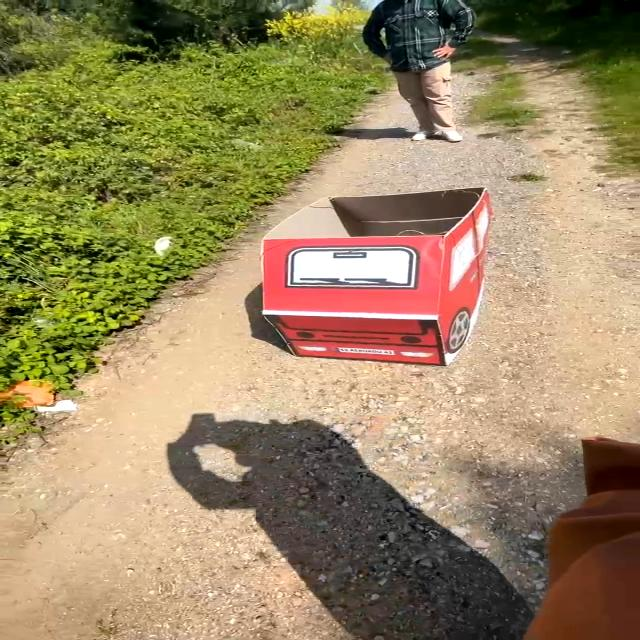red_car: (237, 182, 520, 380)
